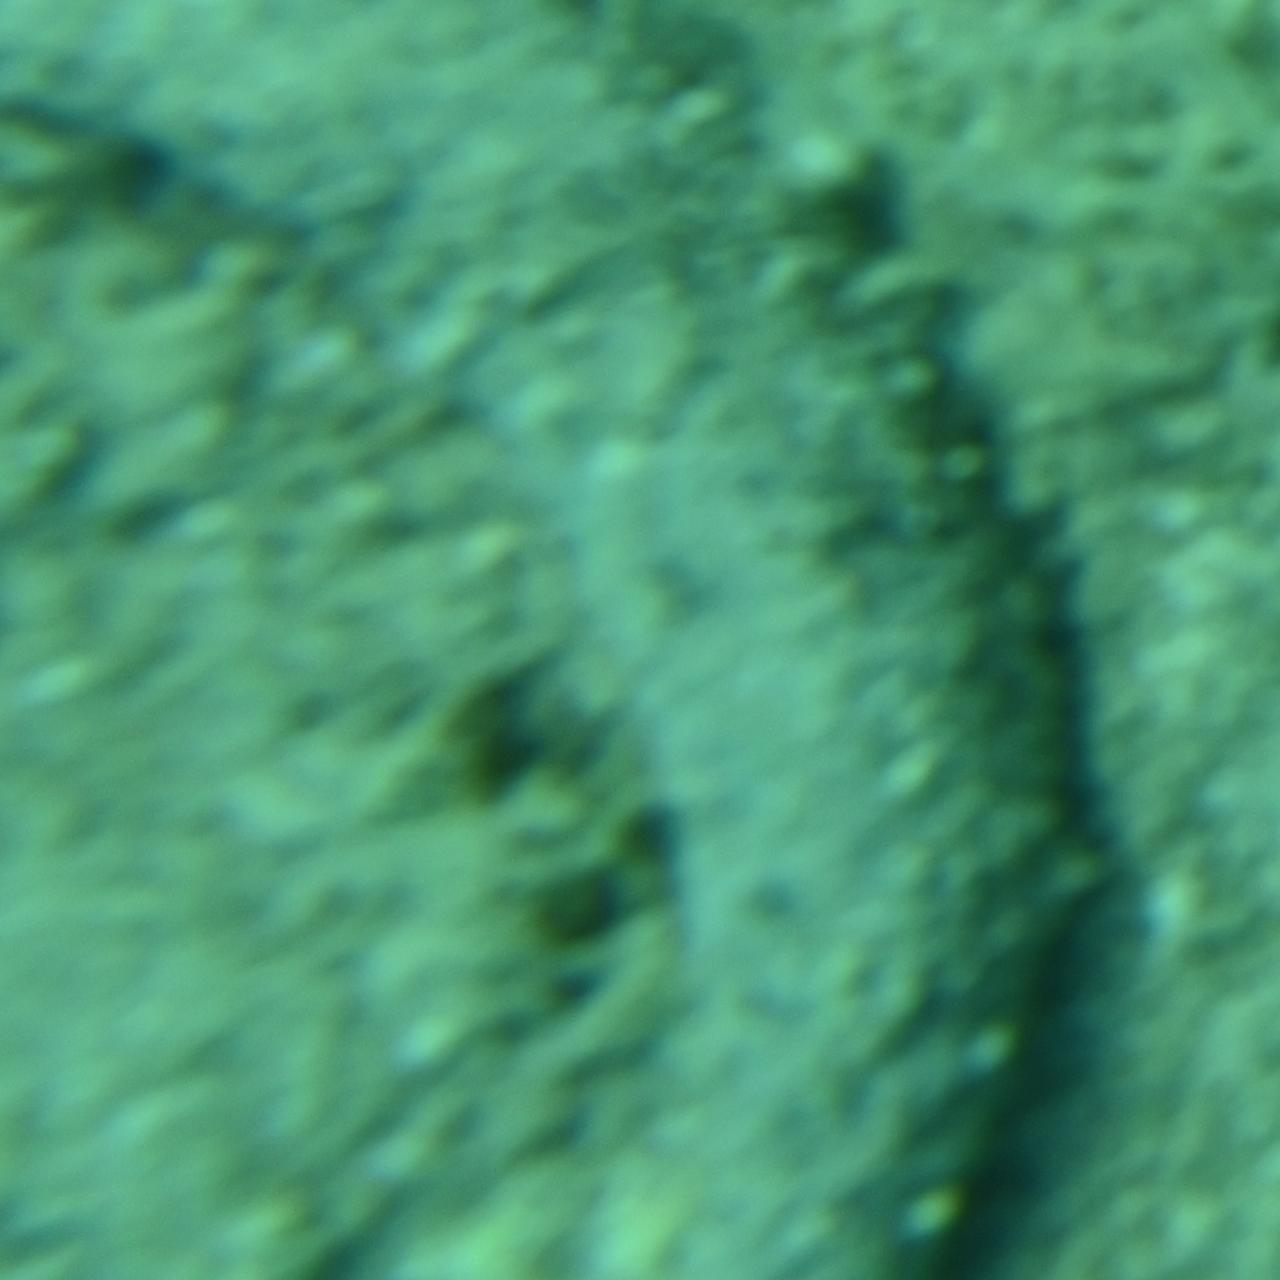Holothuria tubulosa: (2, 0, 1122, 1280)
